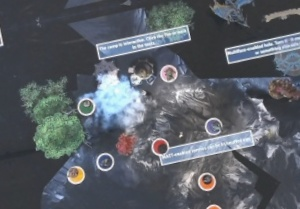blue: (91, 148, 117, 174)
green: (72, 95, 101, 119)
orange: (191, 167, 220, 194)
pink: (152, 59, 180, 87)
red: (149, 133, 172, 158)
violet: (200, 113, 224, 137)
yellow: (64, 161, 87, 186)
